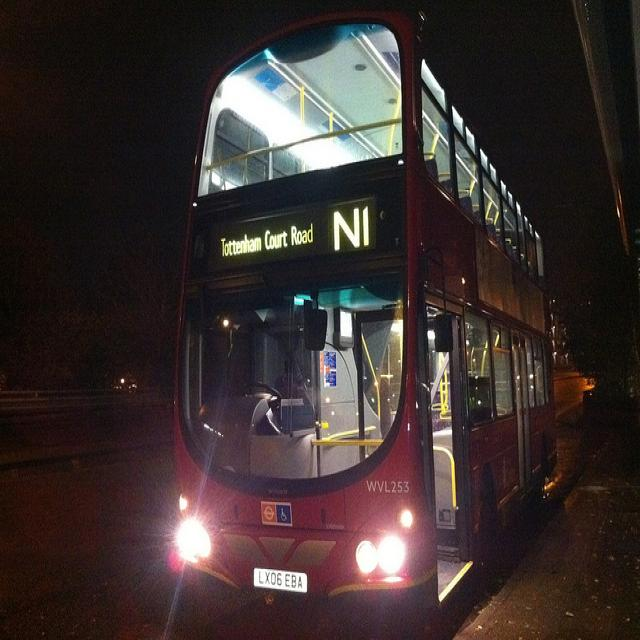Bus: (164, 5, 570, 640)
